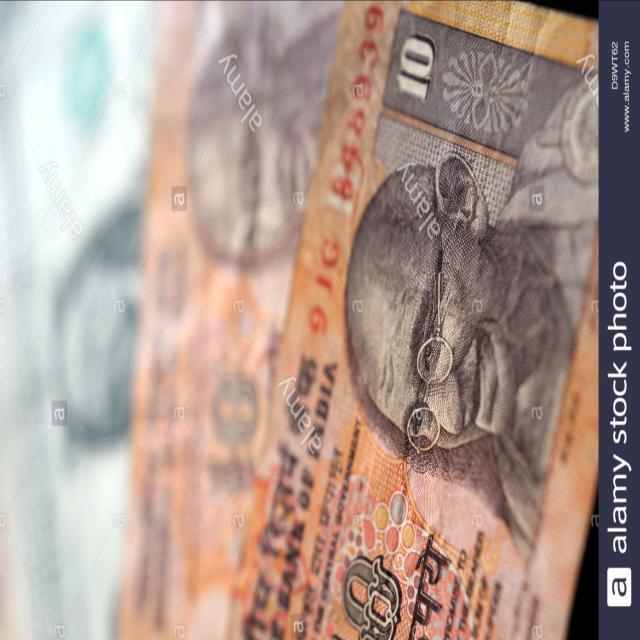10IndianRupees: (234, 0, 596, 640)
